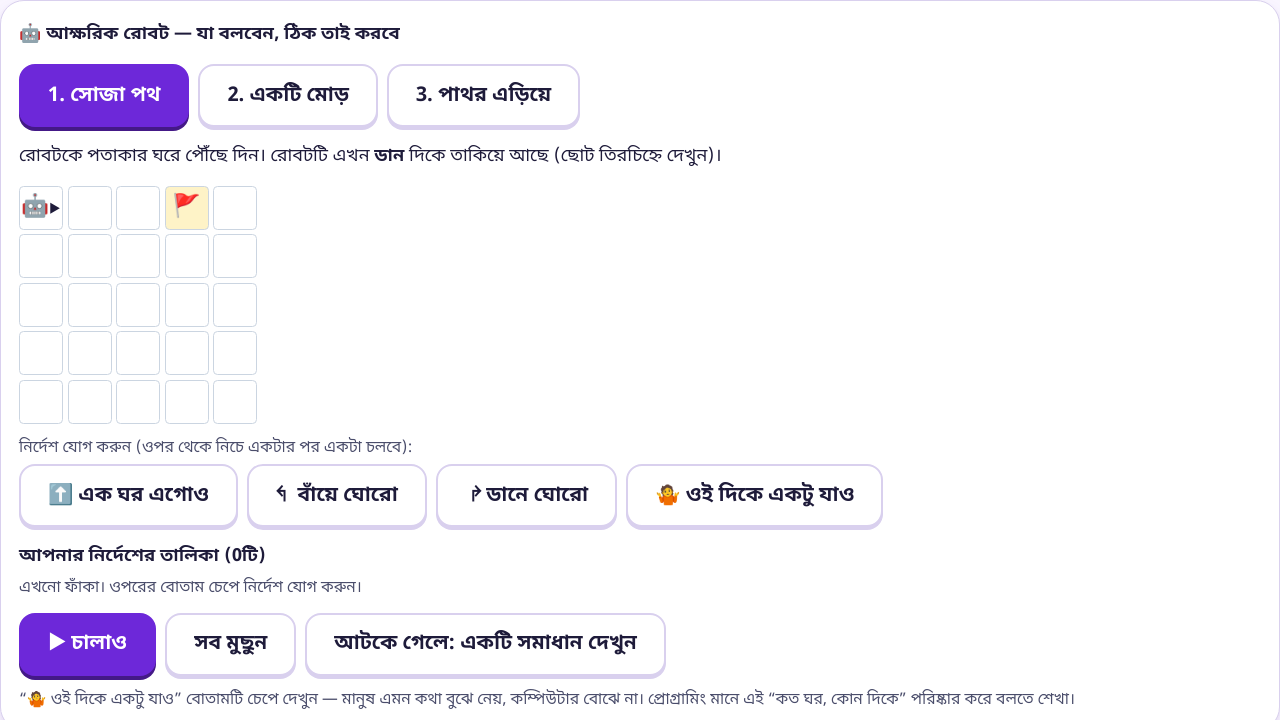
Test: exact-instructions widget › shows a solution on request and switches levels
The image size is (1280, 720).
Step 1. Click the button with test id "level-1" → (288, 96), box [198,64,378,127]
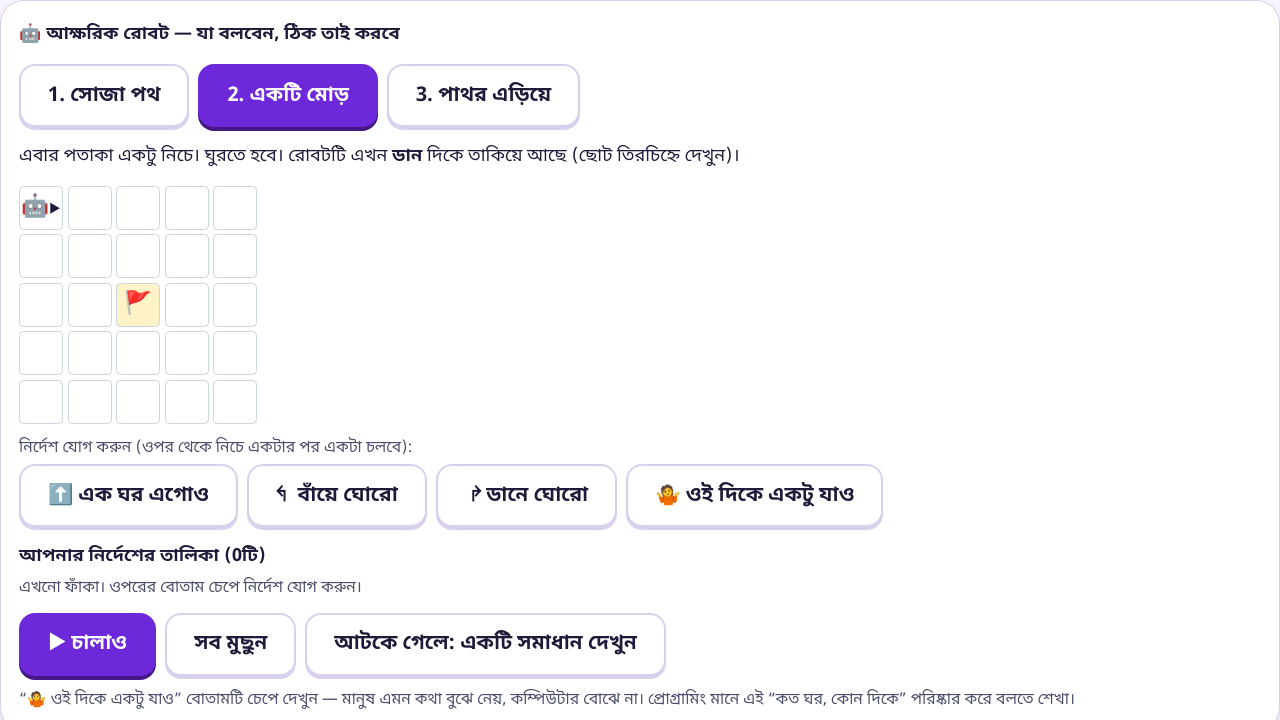
Step 2. Click the button with test id "robot-solution-toggle" → (486, 644), box [305,612,666,676]
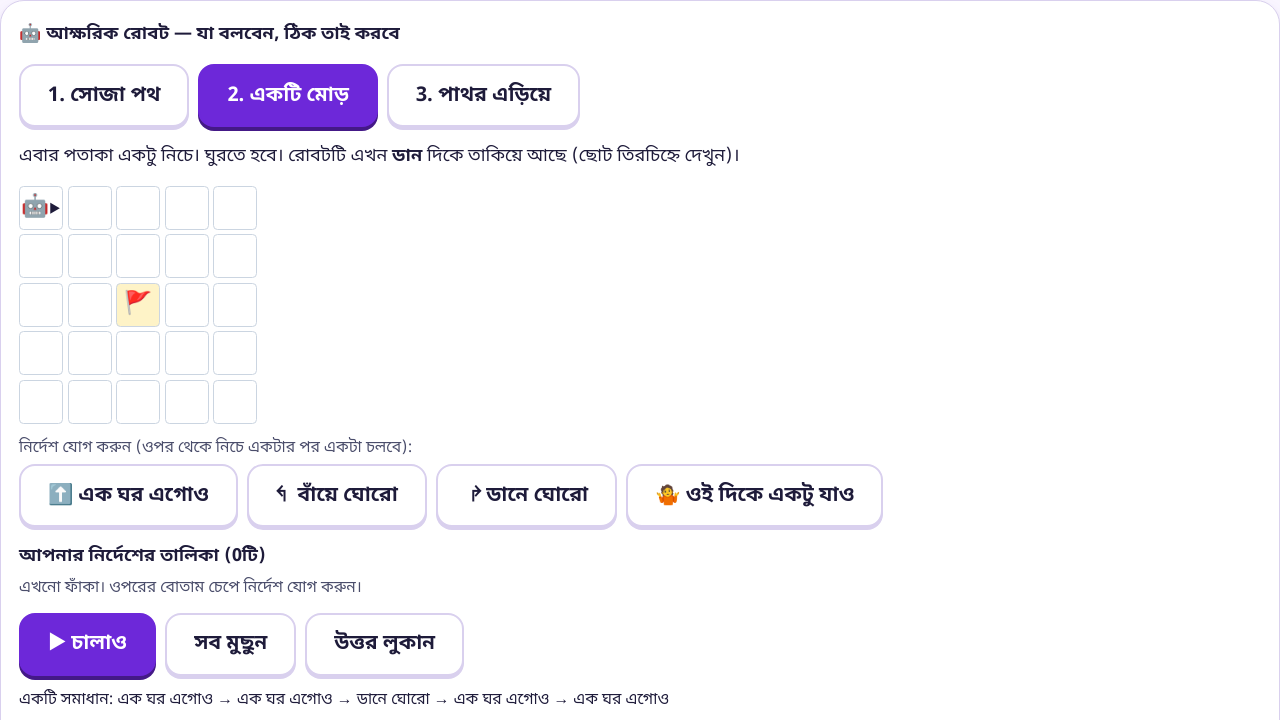
Now the text with test id "robot-solution" shows "ডানে ঘোরো", box [117,690,669,710]
